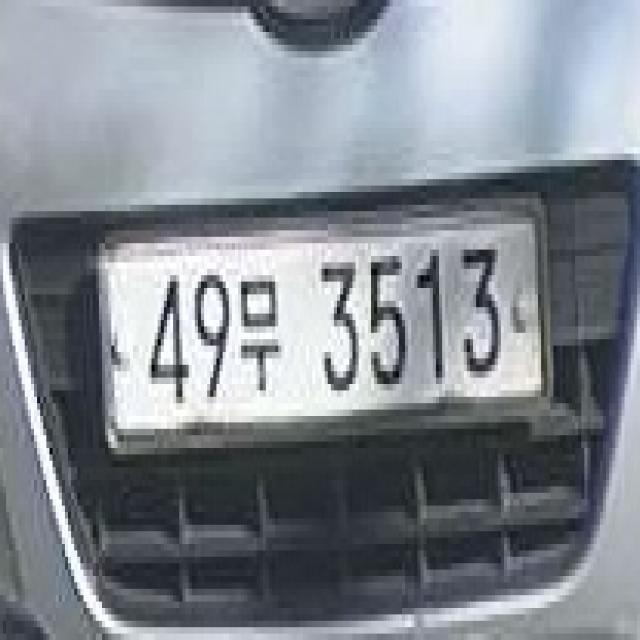1: (414, 245, 450, 379)
3: (457, 238, 506, 380), (320, 252, 360, 400)
4: (148, 258, 194, 410)
5: (368, 252, 408, 394)
9: (195, 268, 236, 404)
license_plate: (98, 202, 552, 456)
mu: (239, 272, 282, 398)
